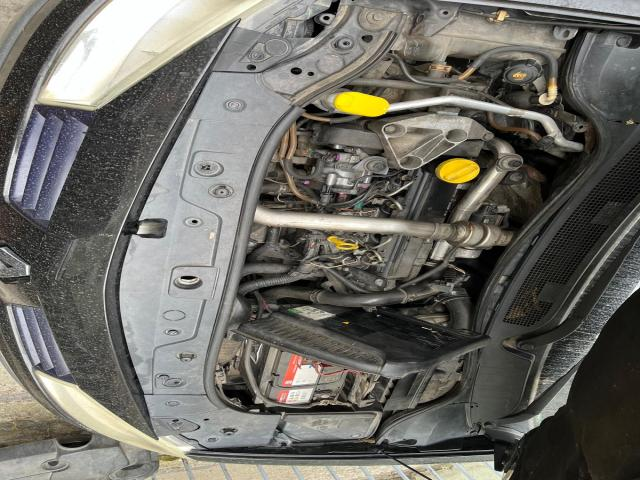accumulator: (240, 339, 350, 407)
antifreeze_tank: (398, 13, 567, 61), (490, 52, 545, 84)
fuse_box: (278, 412, 382, 442)
high_pressure_pump: (303, 152, 374, 202)
